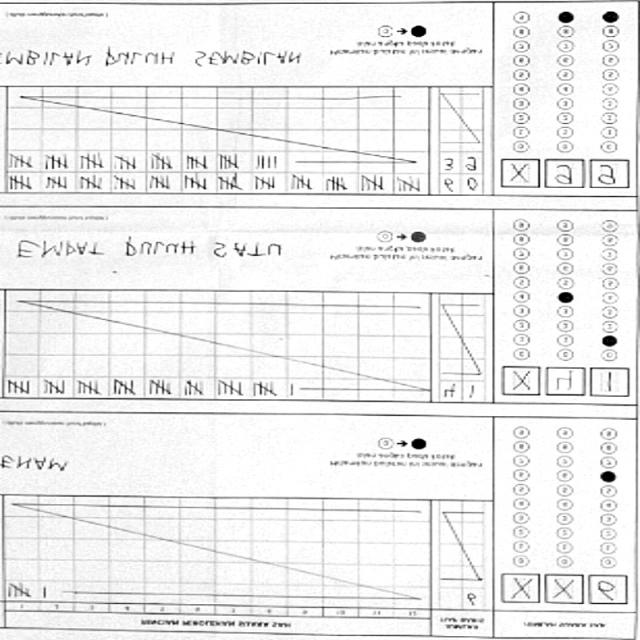Suara: (498, 571, 633, 612), (493, 159, 627, 195), (498, 364, 630, 398)
